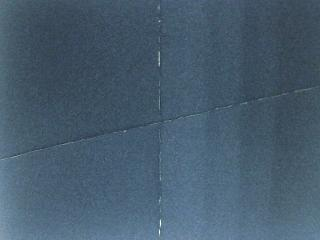crack: (0, 76, 319, 168), (148, 0, 173, 240)
